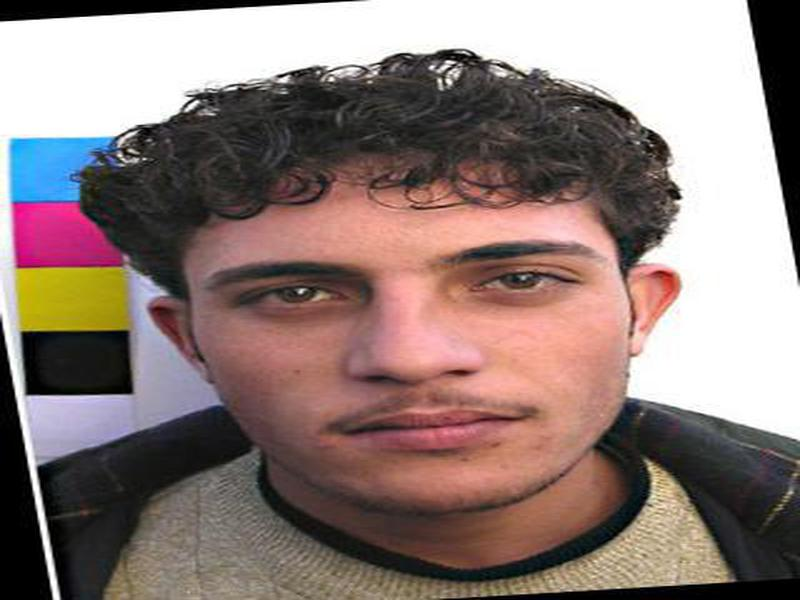without_mask: (172, 185, 634, 506)
